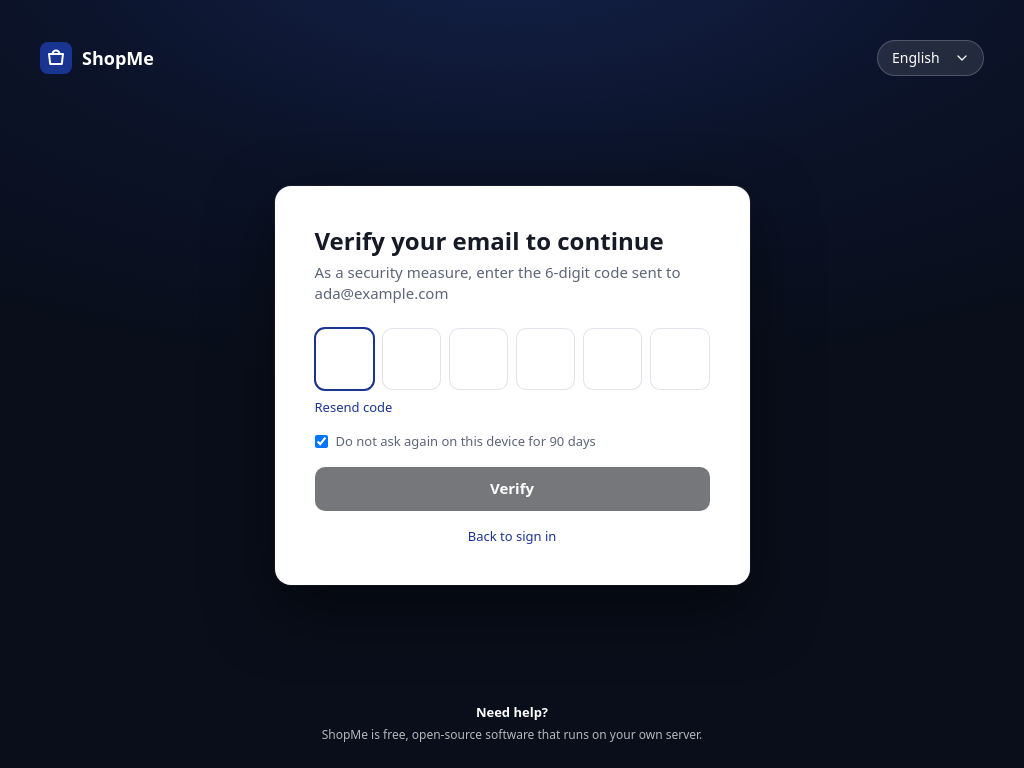
Test: e-mail code step › lets a new code be requested once the cooldown is over
This screenshot has width=1024, height=768.
Click the button "Resend code" at (353, 407), box [314, 398, 392, 416]
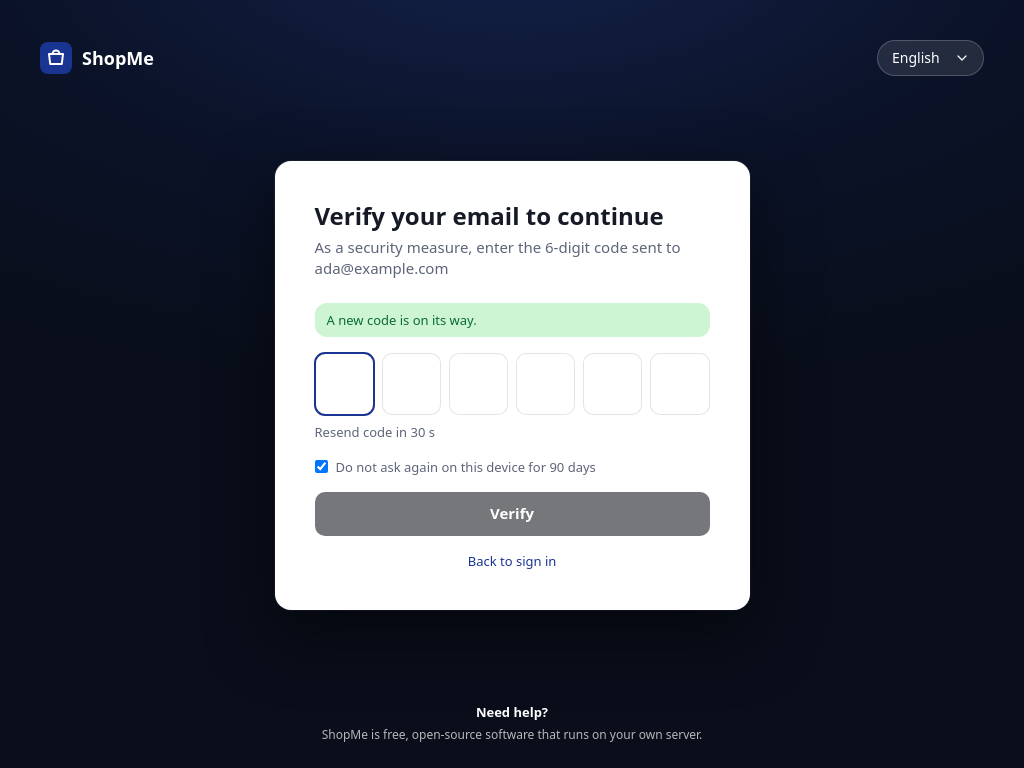
Now the text "A new code is on its way." is shown, box [314, 303, 710, 337]
Now the text "Resend code in 30 s" is shown, box [314, 423, 435, 441]
